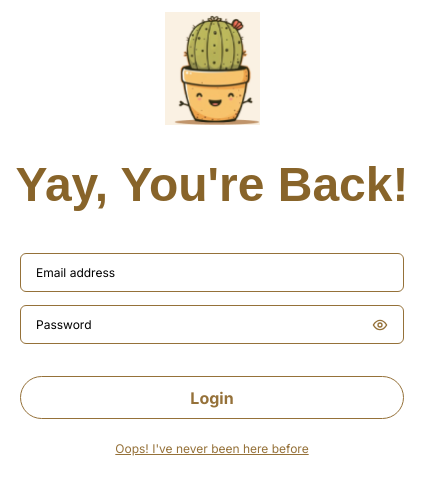
it: LoginPage › shows password validation error for short password
Type "user@example.com" into the field labelled "Email address".
click(212, 273); type("user@example.com")  # box top-left (36, 264), bottom-right (388, 282)
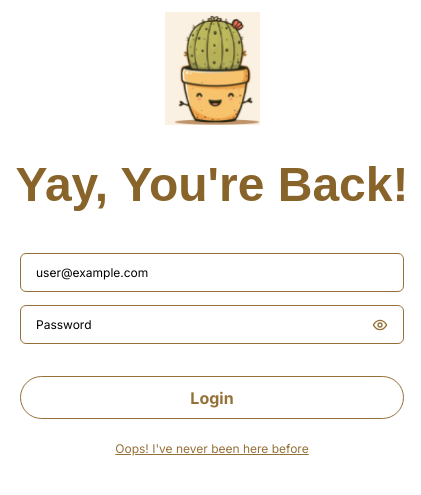
Type "short" into the password field labelled "Password".
click(200, 325); type("short")  # box top-left (36, 316), bottom-right (364, 334)
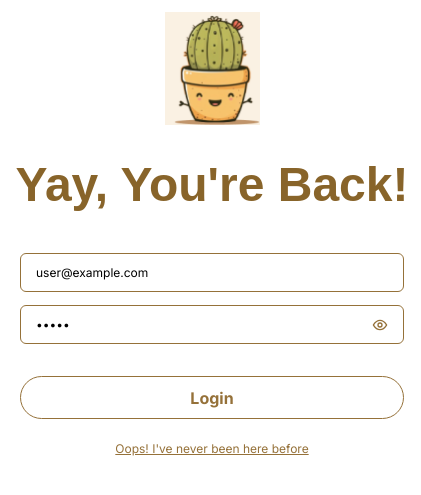
Click the button "Login".
click(212, 398)  # box top-left (20, 376), bottom-right (404, 419)
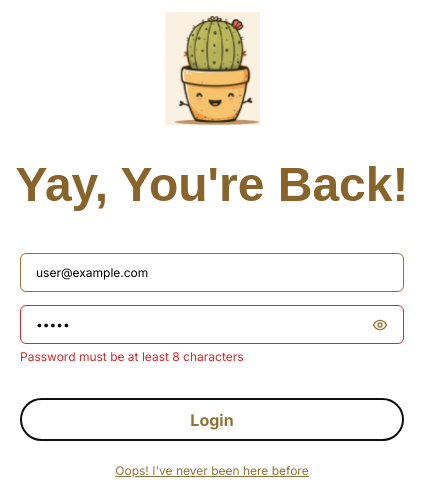
Expected: the text "Password must be at least 8 characters" is shown, top-left (20, 348), bottom-right (244, 366)
